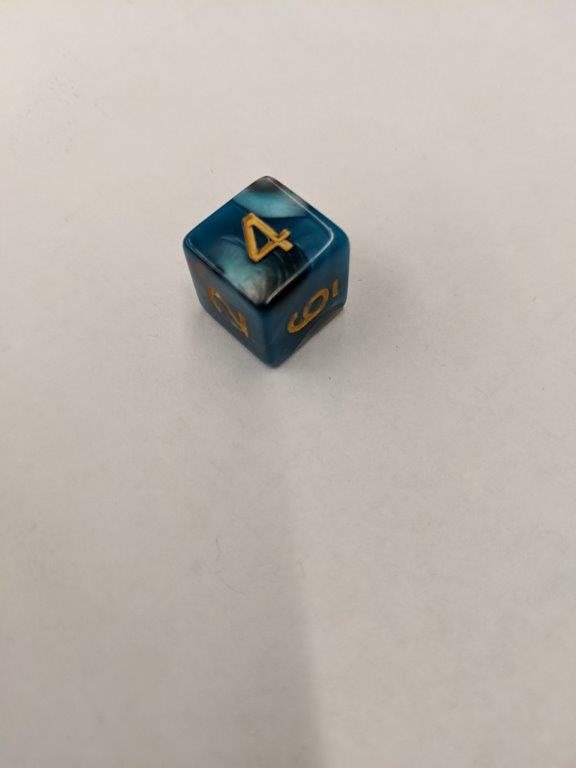d6-4: (184, 172, 350, 368)
